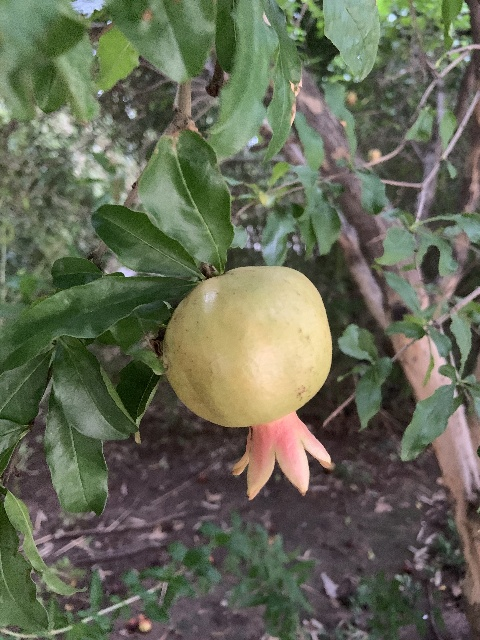mid-growth: (163, 266, 336, 501)
